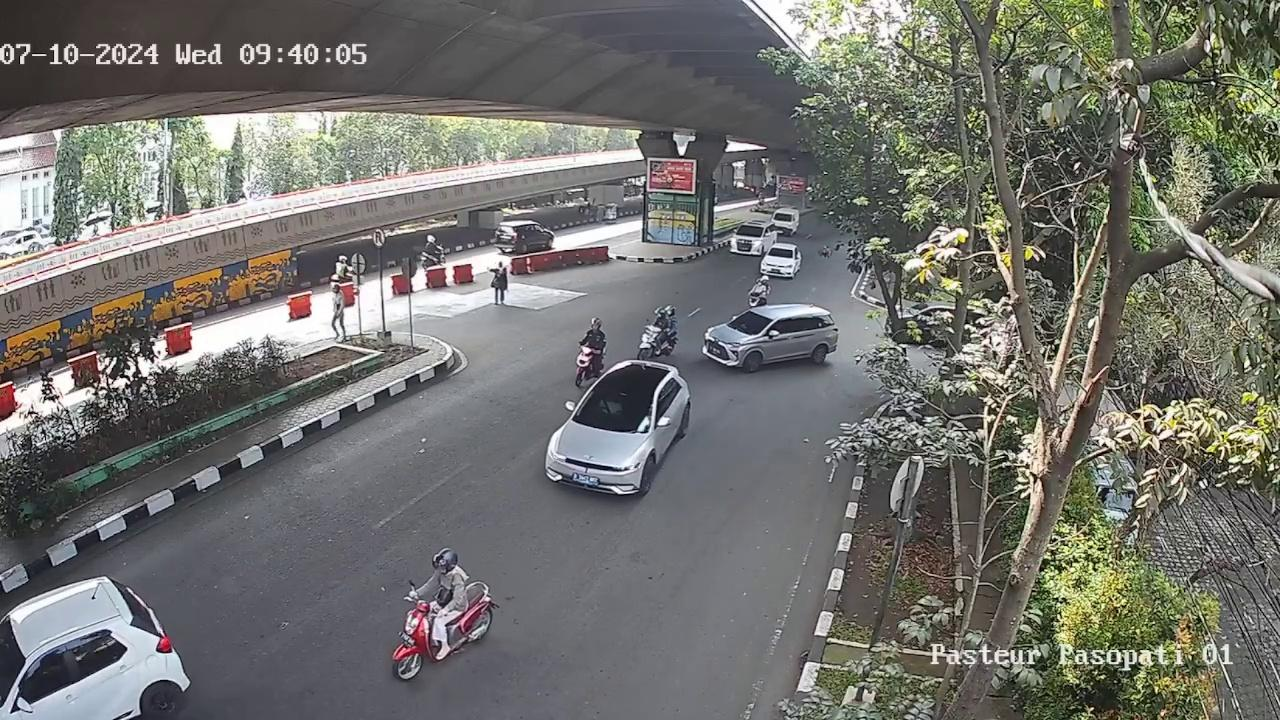pakai: (594, 392, 625, 418)
windshield: (576, 387, 661, 427), (729, 311, 771, 338)
